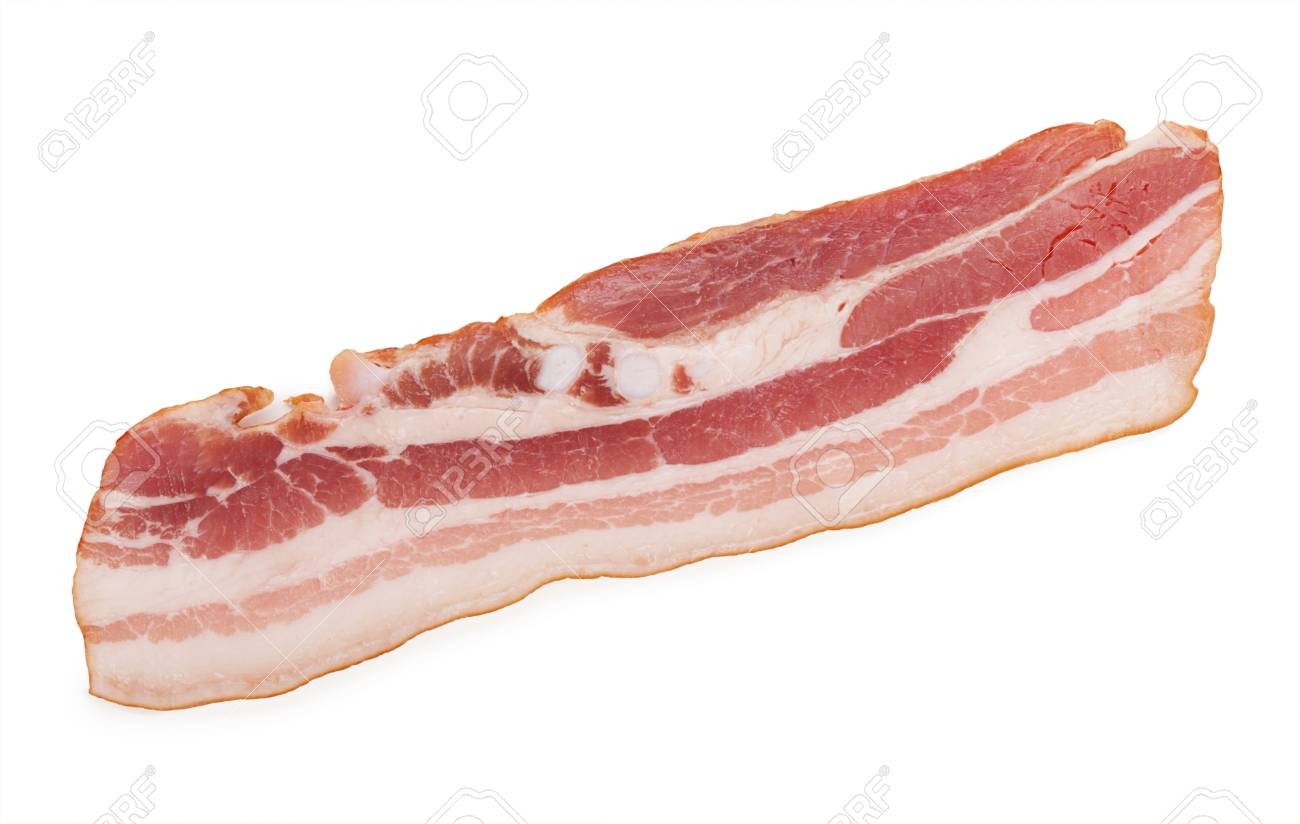bacon: (56, 102, 1286, 725)
